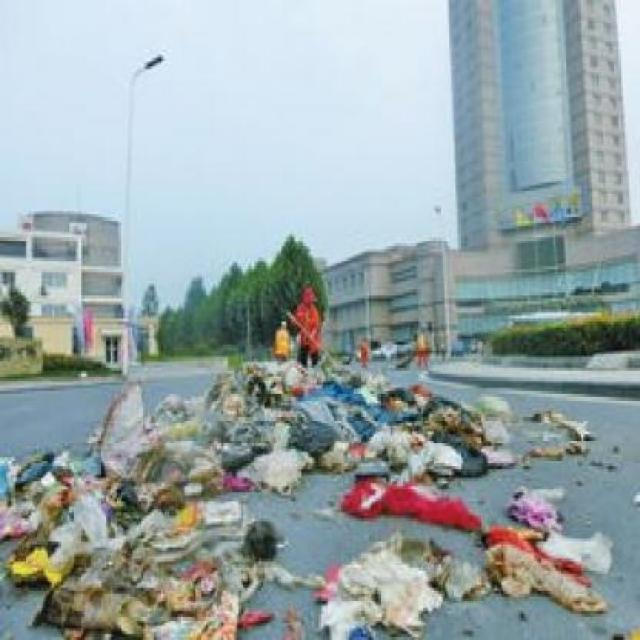garbage: (103, 371, 510, 487), (8, 455, 199, 638), (300, 531, 469, 638), (483, 488, 602, 610)
